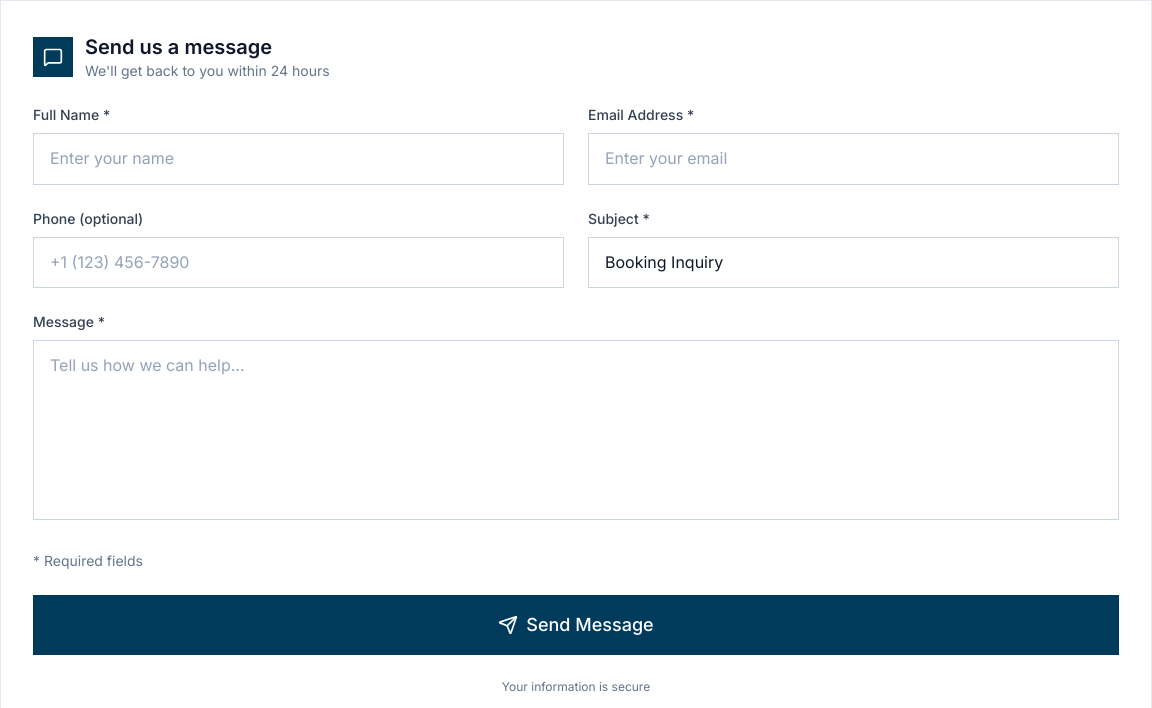
Test: ContactForm › validates minimum message length
Type "Test User" into the field with placeholder "Enter your name". click: [298, 159]
box: [33,133,564,185]
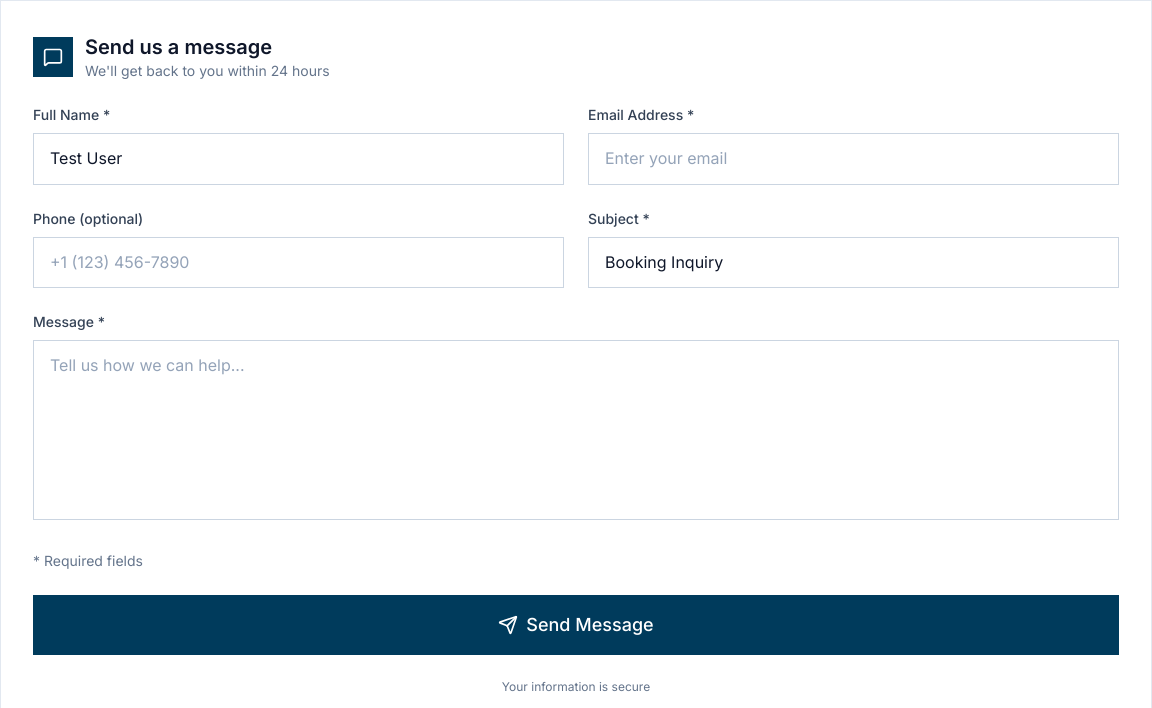
Type "test@example.com" into the field with placeholder "Enter your email". click: [854, 159]
box: [588,133,1119,185]
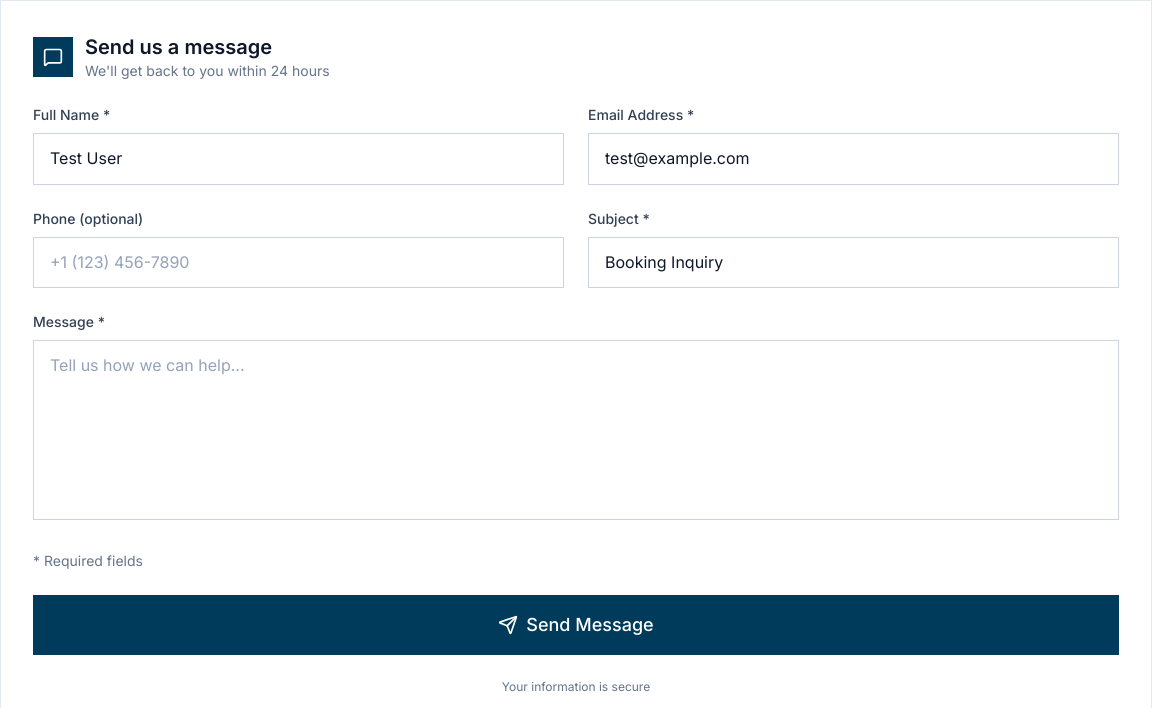
Type "Short" into the text box with placeholder "Tell us how we can help...". click: [576, 430]
box: [33,340,1119,520]
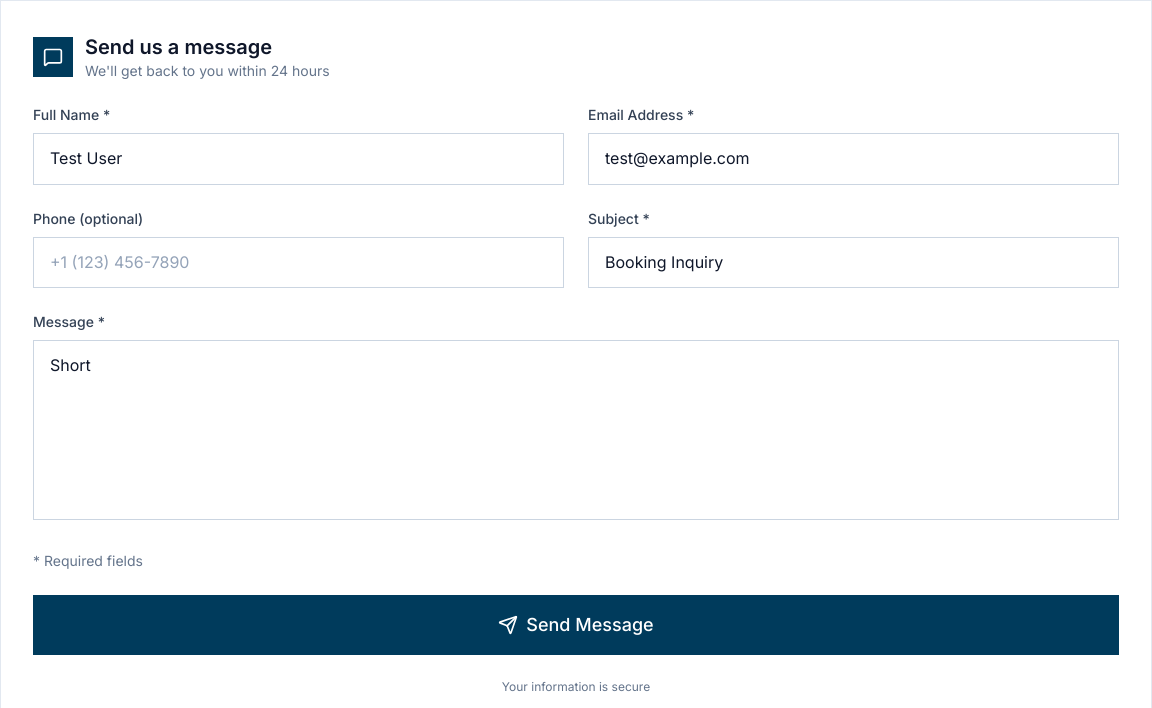
Click the button "Send Message". click: [576, 625]
box: [33,595,1119,655]
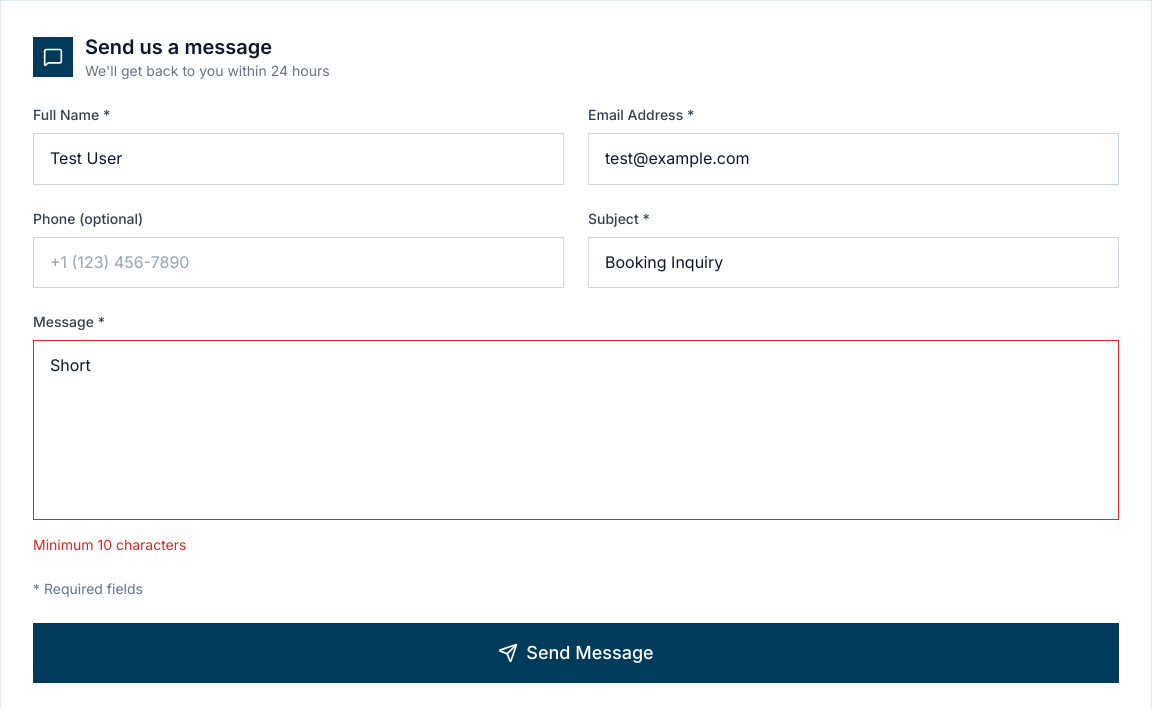
Check: the text "Minimum 10 characters" is shown, box [33,536,186,553]
